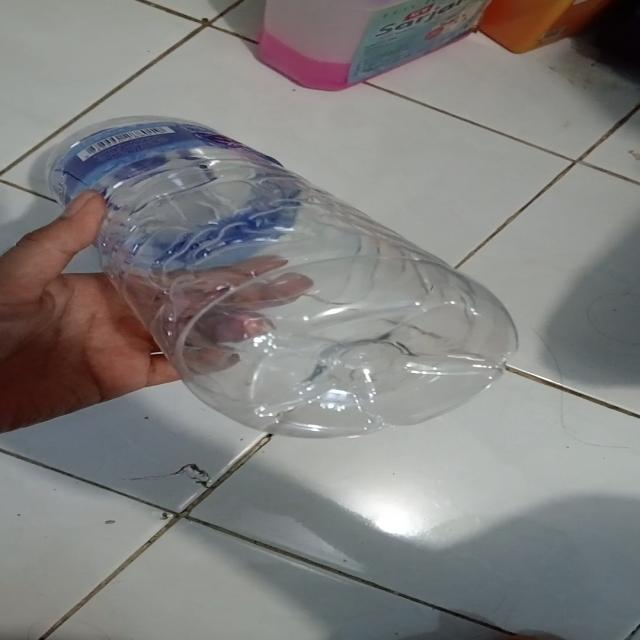Botol bekas: (43, 114, 520, 440)
